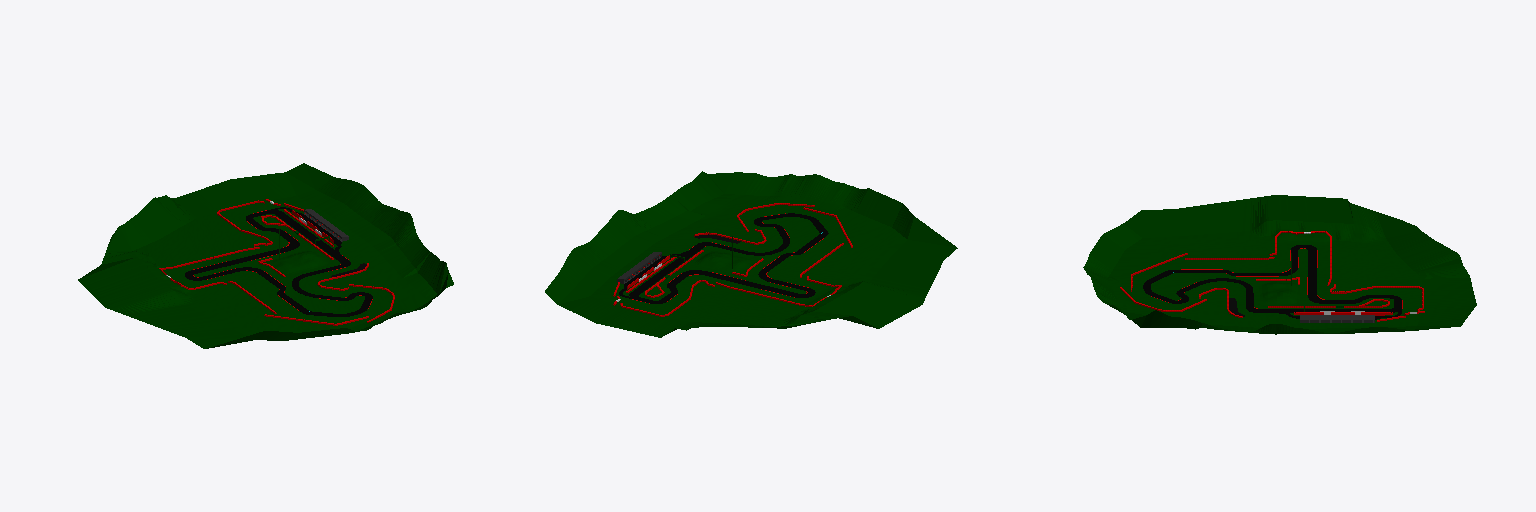
The model's file is circuit.obj.
The picture shows the model from 3 angles: view 1: azimuth 30°, elevation 25°; view 2: azimuth 150°, elevation 25°; view 3: azimuth 270°, elevation 25°; orthographic projection.
Parts seen in each view (by area): view 1: Grass, track; view 2: Grass, track; view 3: Grass, track.
Part boxes in pixels (bbox=[...]): Grass: bbox=[78, 163, 453, 348]; track: bbox=[185, 210, 372, 316]; Grass: bbox=[545, 171, 957, 337]; track: bbox=[629, 213, 828, 303]; Grass: bbox=[1083, 195, 1476, 334]; track: bbox=[1143, 245, 1401, 312].
Size of the model in its own units: 2925 by 315 by 3273.